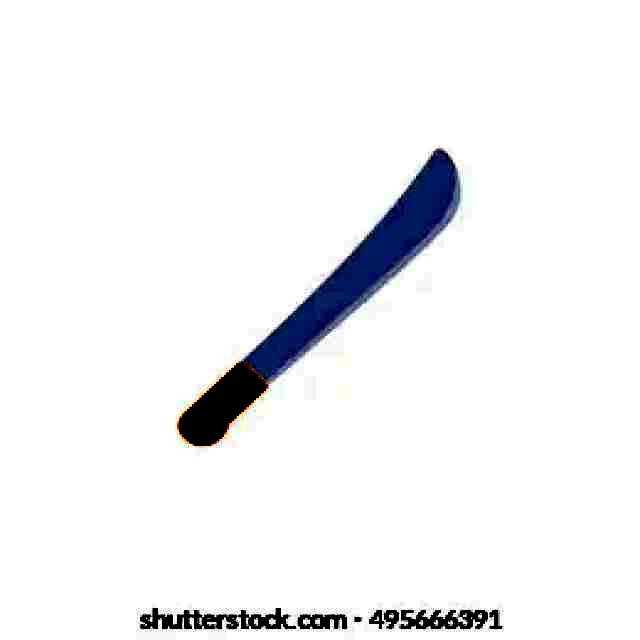long knife: (164, 108, 472, 464)
